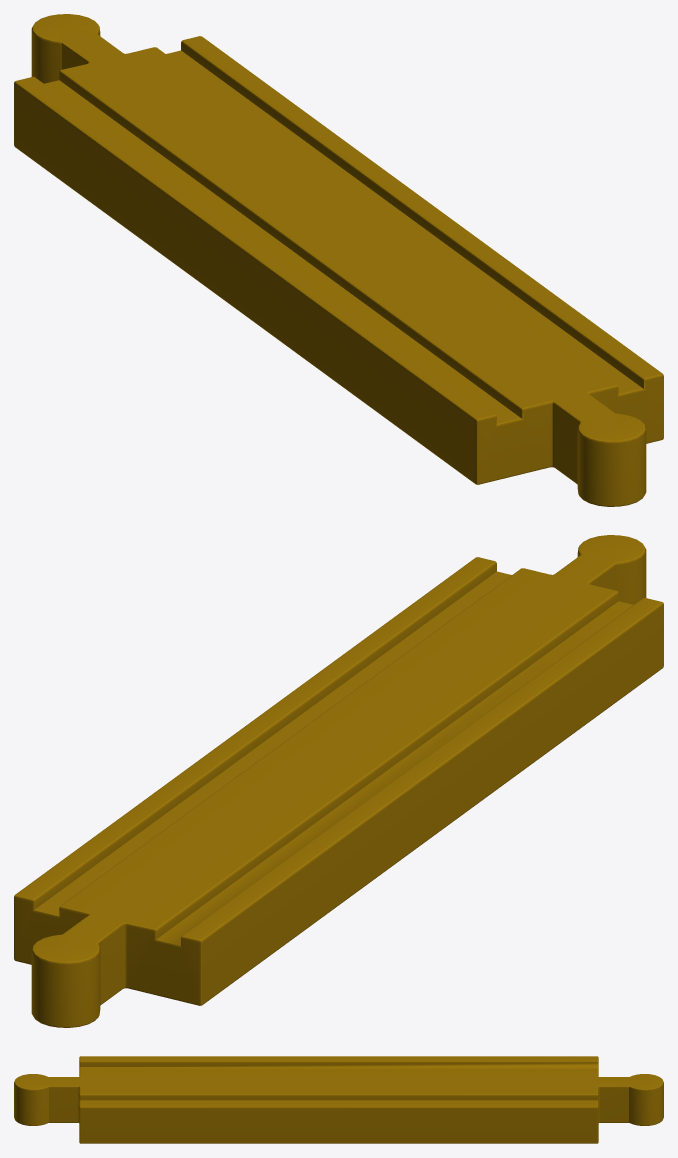
The model's file is Railway_duoPos.fbx.
3 renders of one model, top to bottom at view 1: azimuth 30°, elevation 25°; view 2: azimuth 150°, elevation 25°; view 3: azimuth 270°, elevation 25°, orthographic. The views are drawn at different scales.
Parts seen in each view (by area): view 1: Railway_duoPos; view 2: Railway_duoPos; view 3: Railway_duoPos.
Boxes of the visible parts, <box> form: Railway_duoPos: <box>14,14,663,506</box>; Railway_duoPos: <box>14,535,663,1027</box>; Railway_duoPos: <box>14,1056,663,1143</box>.
Size of the model in its own units: 74.98 by 25.28 by 400.
